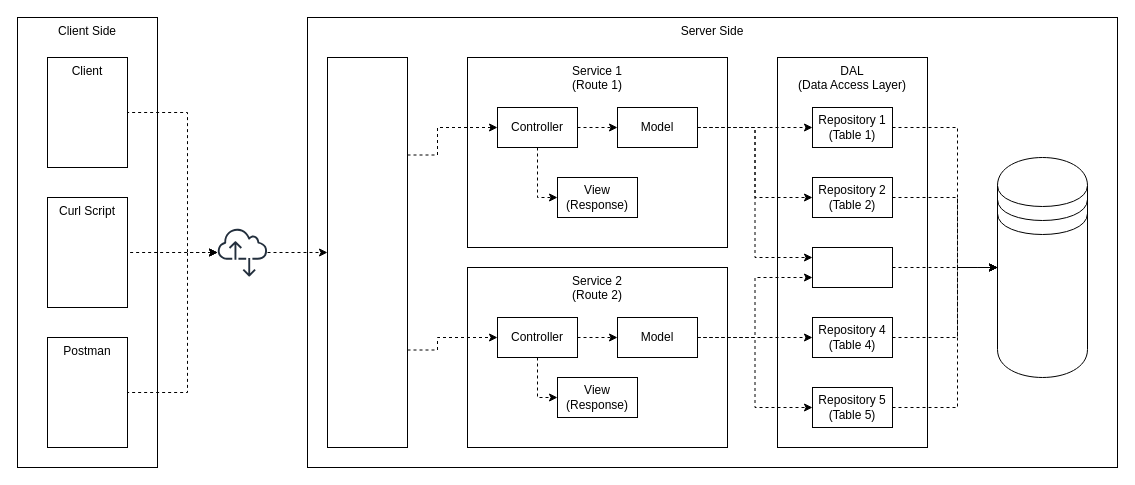
The diagram is 1135 pixels wide and 485 high, and some of its shapes have lost their labels. The shapes that lost their labels are listed below. From the top down, each one's centre as x and y in pixels, then its label:
At (x=367, y=252): "HTTP/REST Server".
At (x=852, y=267): "Repository 3 (Table 3)".
At (x=1042, y=267): "PostgreSQL Database".
